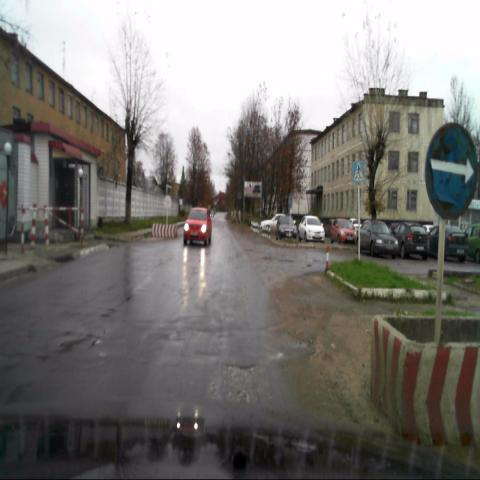4_1_2_1: (425, 122, 477, 222)
